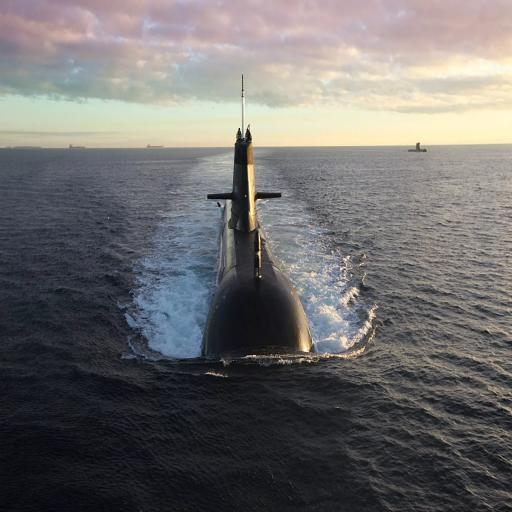submarine: (196, 72, 317, 369)
